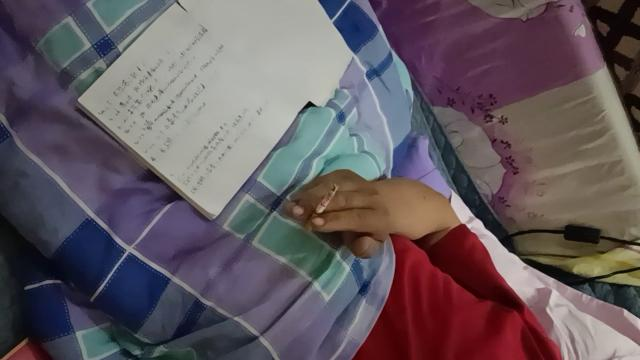Cigarette: (304, 184, 338, 231)
